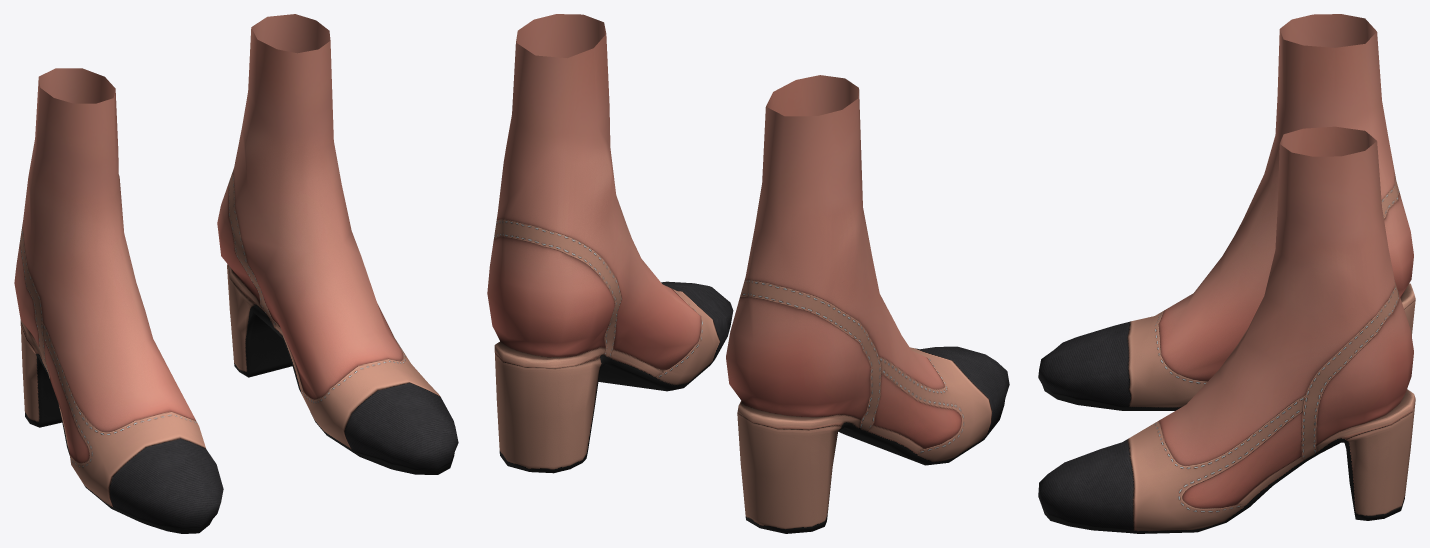
The model's file is shoes_var_05.FBX.
3 views of the same model, side by side, from view 1: azimuth 30°, elevation 25°; view 2: azimuth 150°, elevation 25°; view 3: azimuth 270°, elevation 25° (orthographic). The views are drawn at different scales.
Visible parts, largest first — view 1: shoes_var_05; view 2: shoes_var_05; view 3: shoes_var_05.
Boxes of the visible parts, <box> form: shoes_var_05: <box>14,14,458,533</box>; shoes_var_05: <box>487,14,1009,533</box>; shoes_var_05: <box>1038,14,1415,533</box>.
Bounding box in the file's own units: 21.66 × 21.35 × 19.74.
1 material, 1 textured.
